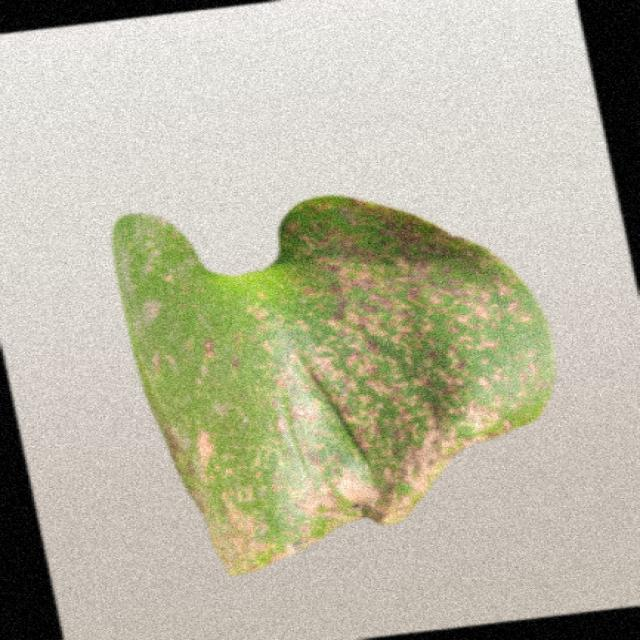daun berpenyakit bercak: (113, 197, 555, 575)
